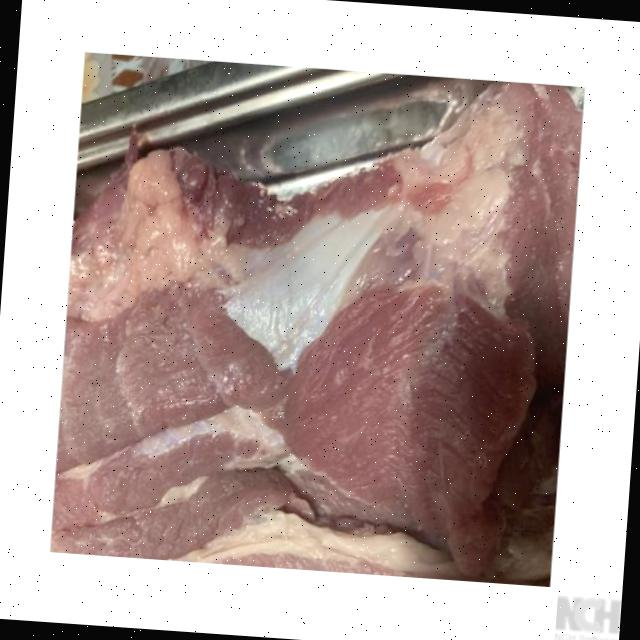rotten meat: (27, 26, 600, 594)
